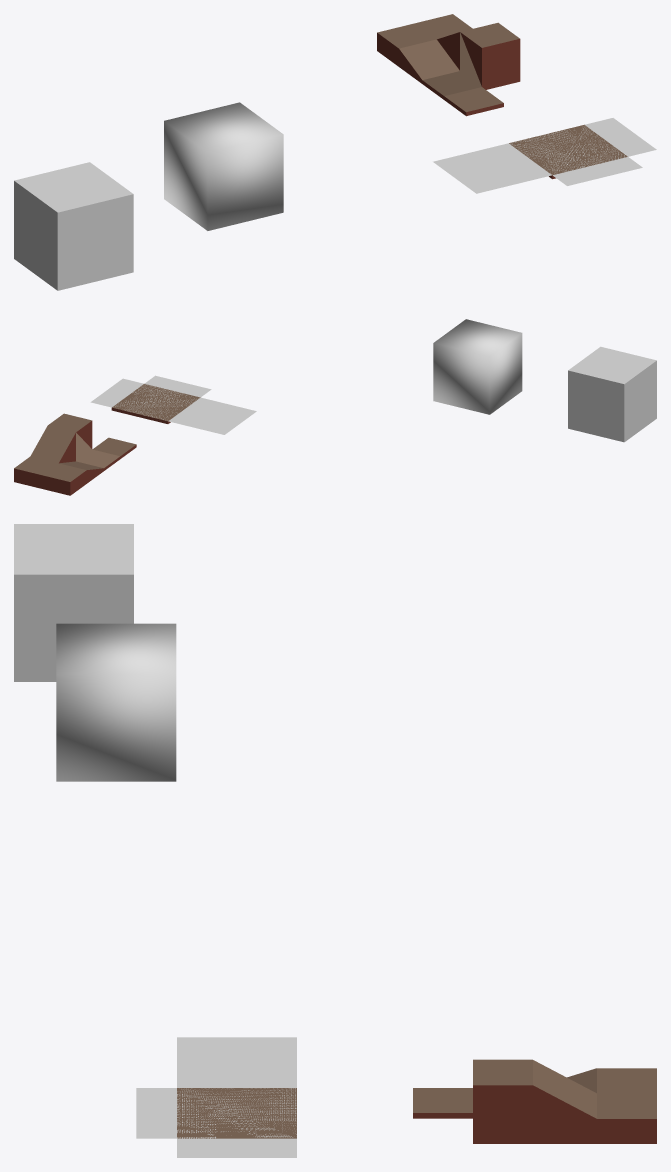
File: test_map1.glb
3 views of the same model, one above another, from view 1: azimuth 30°, elevation 25°; view 2: azimuth 150°, elevation 25°; view 3: azimuth 270°, elevation 25° (orthographic). The views are drawn at different scales.
Visible parts, largest first — view 1: fast64_f3d_material_library_PlaneObject, test_map; view 2: fast64_f3d_material_library_PlaneObject, test_map; view 3: fast64_f3d_material_library_PlaneObject, test_map.
Part boxes in pixels (x1=…): fast64_f3d_material_library_PlaneObject: x1=14, y1=102, x2=656, y2=290; test_map: x1=377, y1=14, x2=627, y2=179; fast64_f3d_material_library_PlaneObject: x1=90, y1=319, x2=656, y2=442; test_map: x1=14, y1=384, x2=200, y2=495; fast64_f3d_material_library_PlaneObject: x1=14, y1=524, x2=296, y2=1157; test_map: x1=177, y1=1059, x2=656, y2=1143.
Size of the model in its own units: 17.37 by 3.87 by 10.73.
